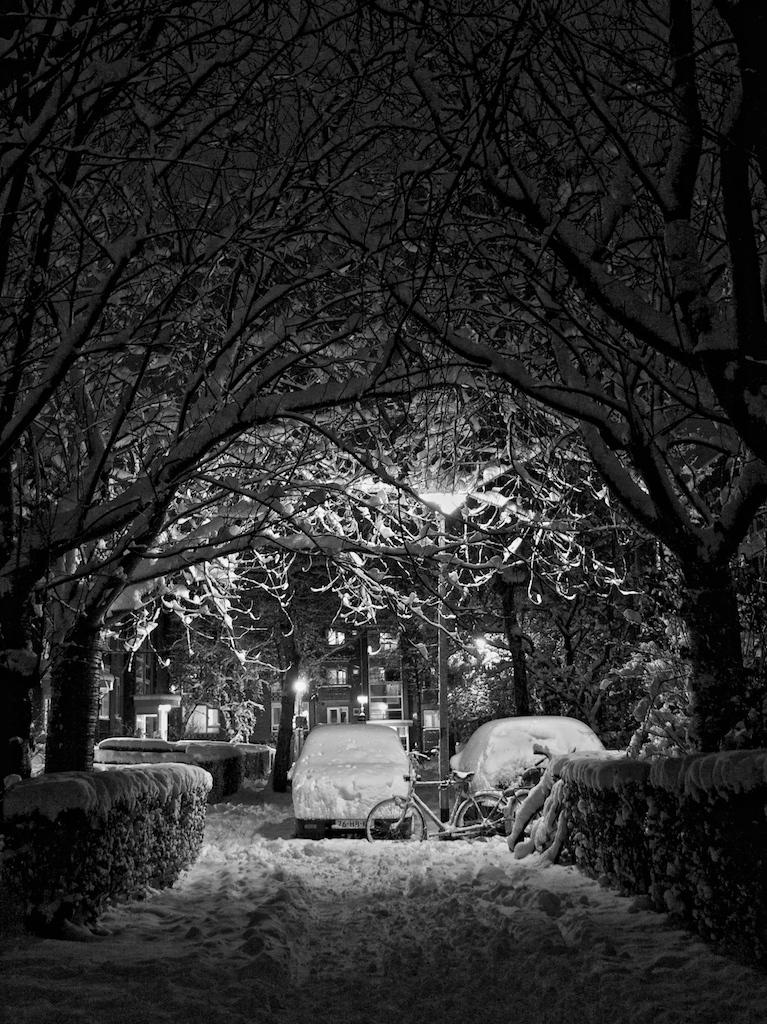Tree: (0, 10, 767, 864)
